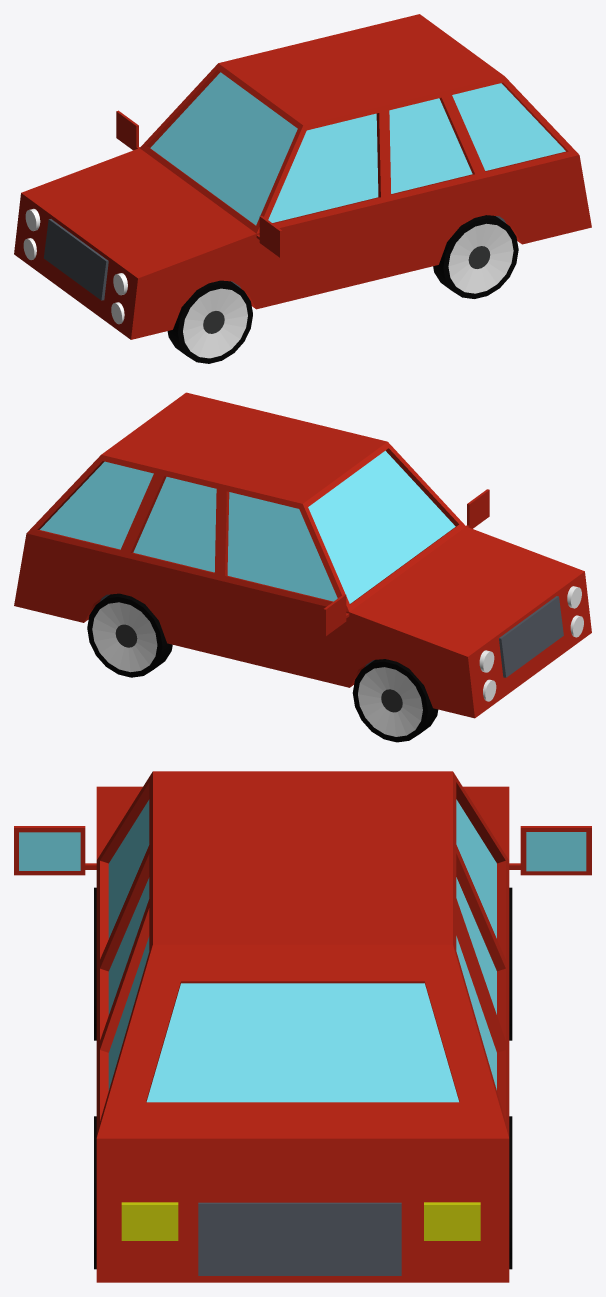
Rendered from car2A.FBX.
The picture shows the model from 3 angles, top to bottom: view 1: azimuth 30°, elevation 25°; view 2: azimuth 150°, elevation 25°; view 3: azimuth 270°, elevation 25°; orthographic projection. The views are drawn at different scales.
Parts seen in each view (by area): view 1: car 2A; view 2: car 2A; view 3: car 2A.
Part boxes in pixels (x1,y1,x2,y2): car 2A: (14, 14, 591, 363); car 2A: (14, 392, 591, 742); car 2A: (14, 771, 591, 1282).
Bounding box in the file's own units: 10.05 × 4.13 × 6.16.
